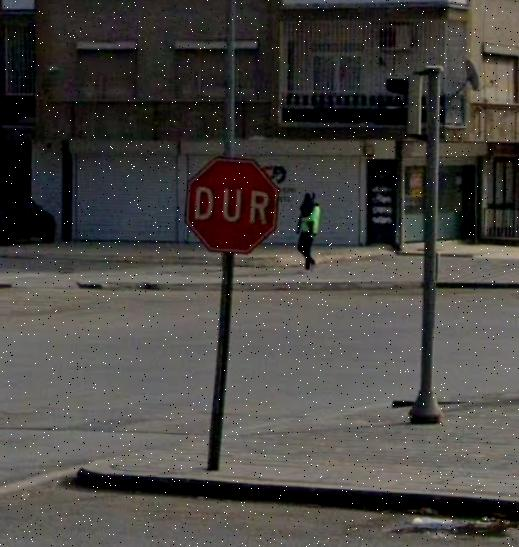stop: (185, 161, 276, 250)
